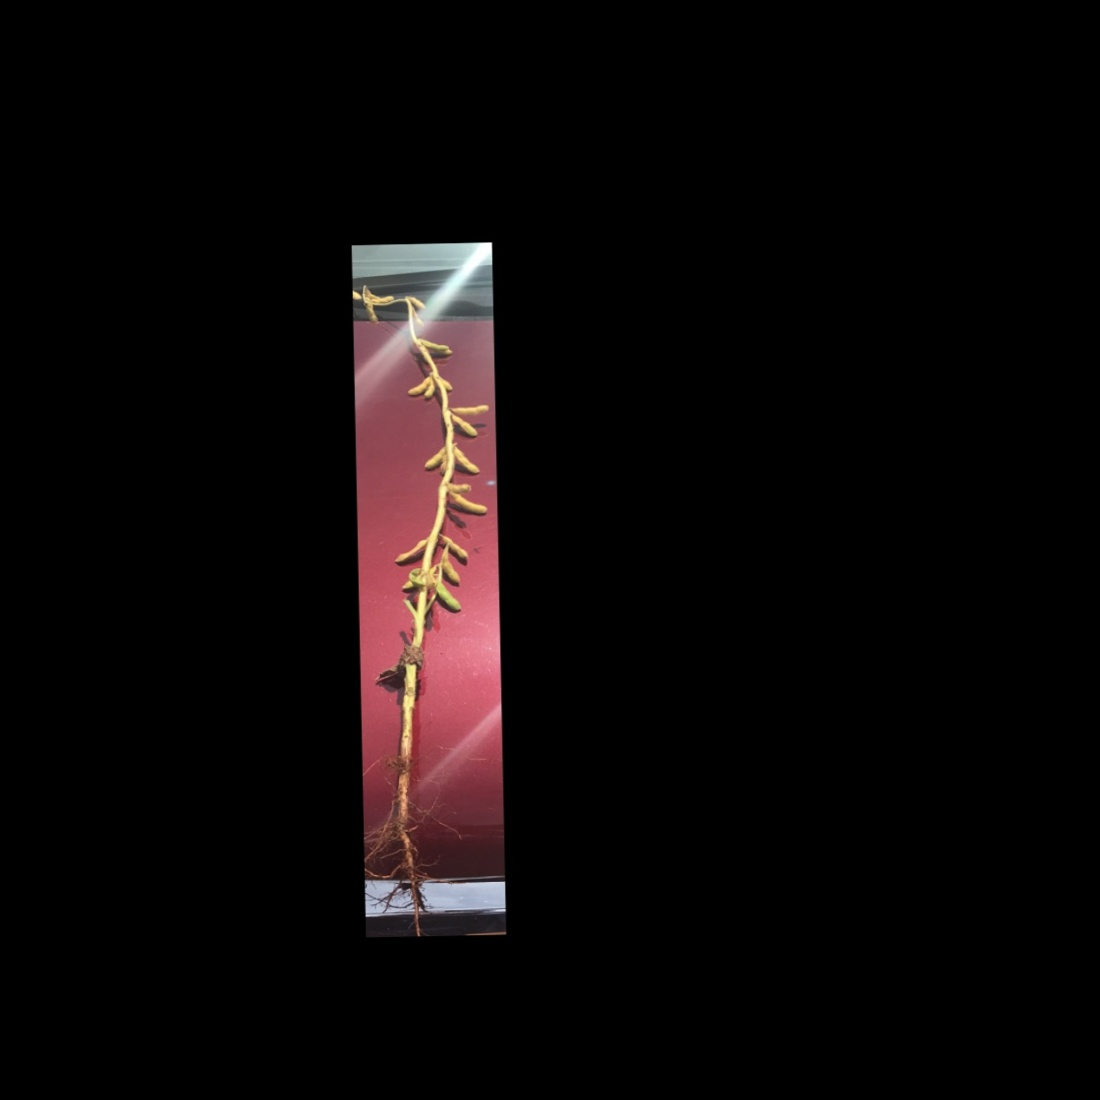pod: (433, 578, 463, 618), (445, 492, 491, 518), (452, 444, 487, 477), (439, 543, 463, 588), (394, 535, 429, 563), (450, 414, 479, 440), (447, 403, 493, 416), (363, 304, 382, 327), (408, 293, 431, 311), (410, 305, 426, 328), (438, 451, 450, 479)
soy: (352, 280, 501, 794)
